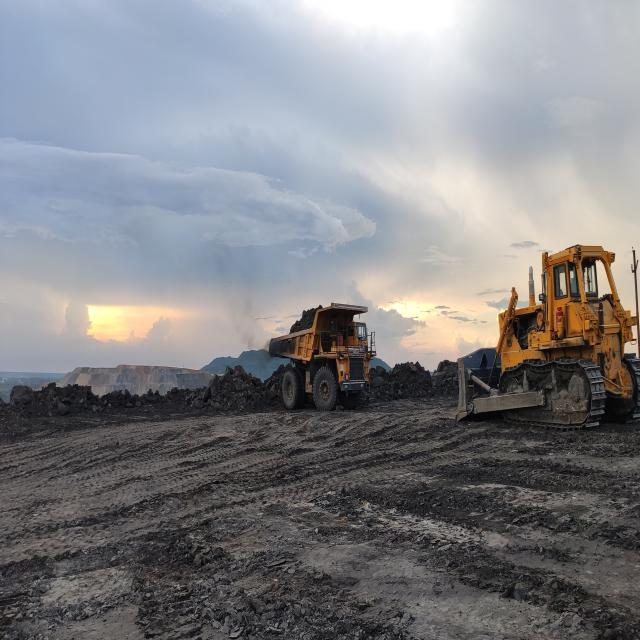buldozerpayloadergrader: (460, 244, 640, 427)
dump_truck: (270, 302, 375, 409), (318, 356, 320, 358), (300, 342, 302, 344)
